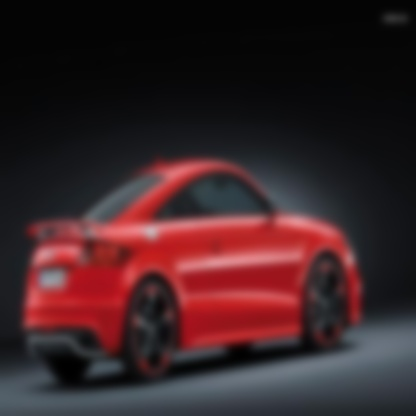Vehicle: (23, 152, 363, 384)
